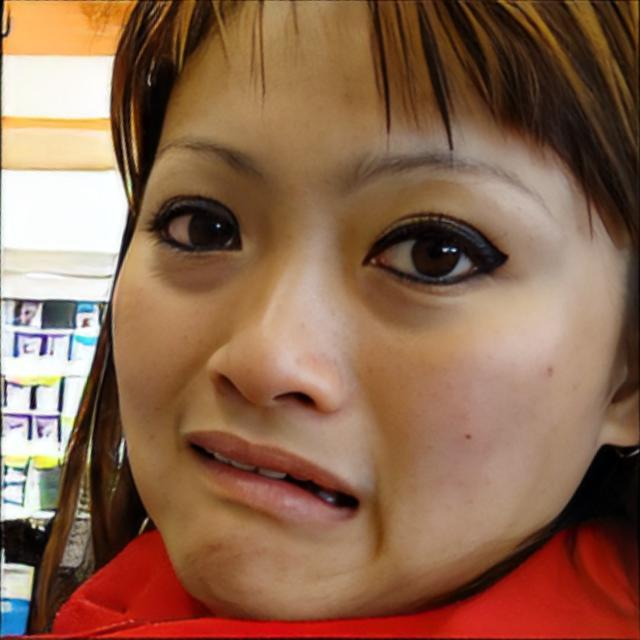disgust: (108, 1, 636, 623)
